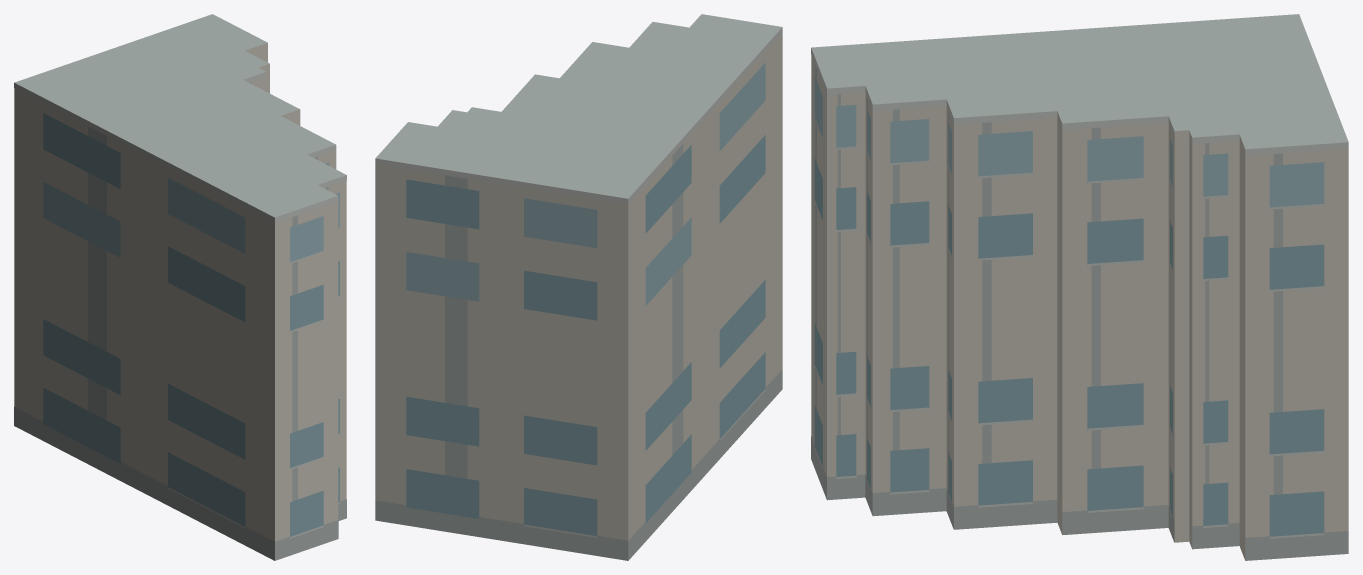
Rendered from survey-upis-32621286.glb.
The picture shows the model from 3 angles, left to right: view 1: azimuth 30°, elevation 25°; view 2: azimuth 150°, elevation 25°; view 3: azimuth 270°, elevation 25°; orthographic projection. The views are drawn at different scales.
Parts seen in each view (by area): view 1: survey-upis-32621286.tmp; view 2: survey-upis-32621286.tmp; view 3: survey-upis-32621286.tmp.
Boxes of the visible parts, bbox=[...] form: survey-upis-32621286.tmp: bbox=[14, 14, 346, 560]; survey-upis-32621286.tmp: bbox=[375, 14, 782, 560]; survey-upis-32621286.tmp: bbox=[811, 14, 1348, 560].
Size of the model in its own units: 10.73 by 15.2 by 18.01.
